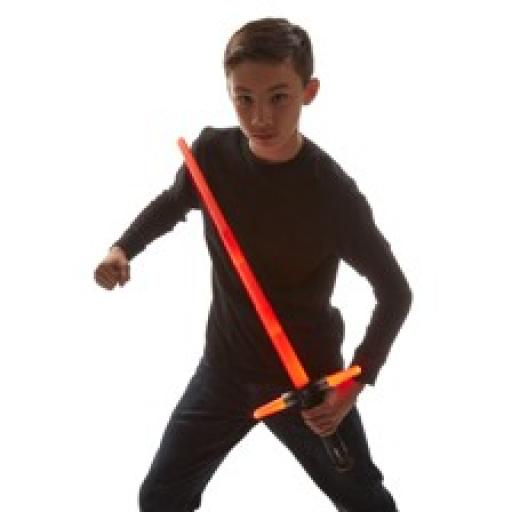human: (92, 18, 414, 512)
sith saber: (177, 137, 362, 474)
